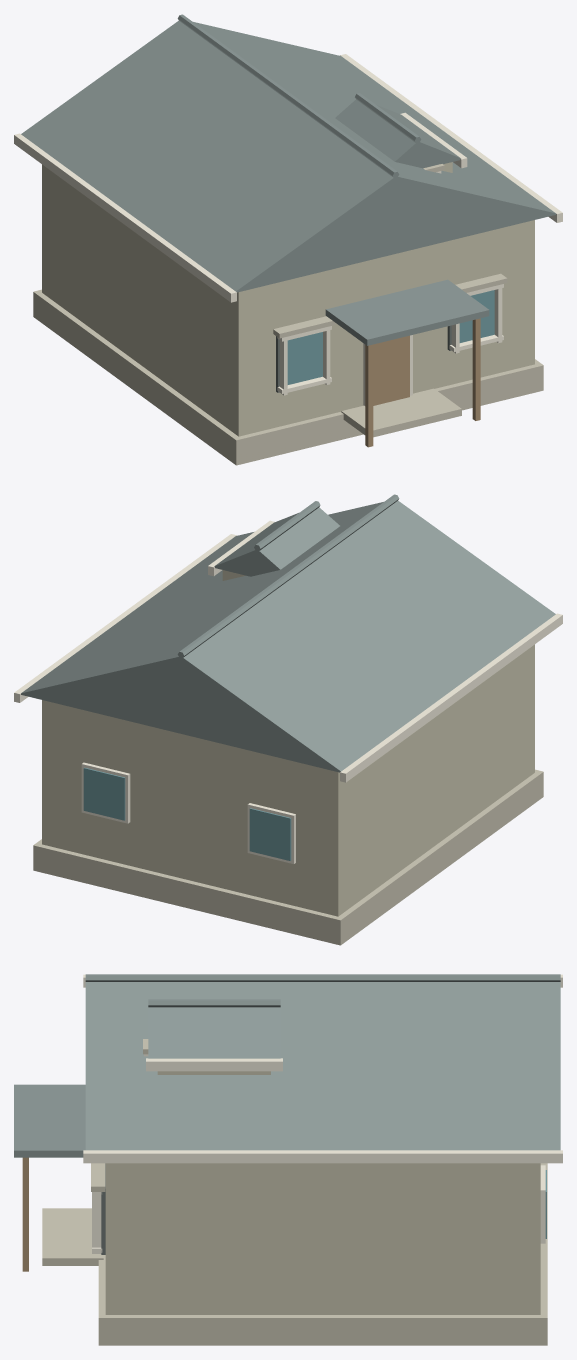
The picture shows the model from 3 angles, top to bottom: view 1: azimuth 30°, elevation 25°; view 2: azimuth 150°, elevation 25°; view 3: azimuth 270°, elevation 25°; orthographic projection. The views are drawn at different scales.
Bounding box in the file's own units: 8.96 × 6.76 × 11.61.
